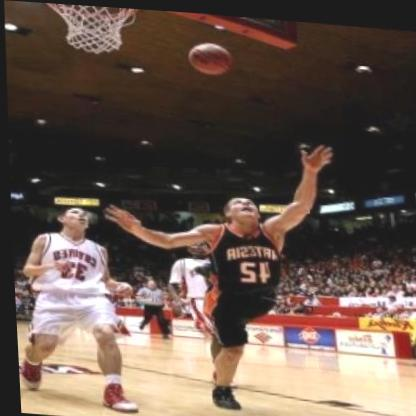basketball: (182, 33, 240, 79)
